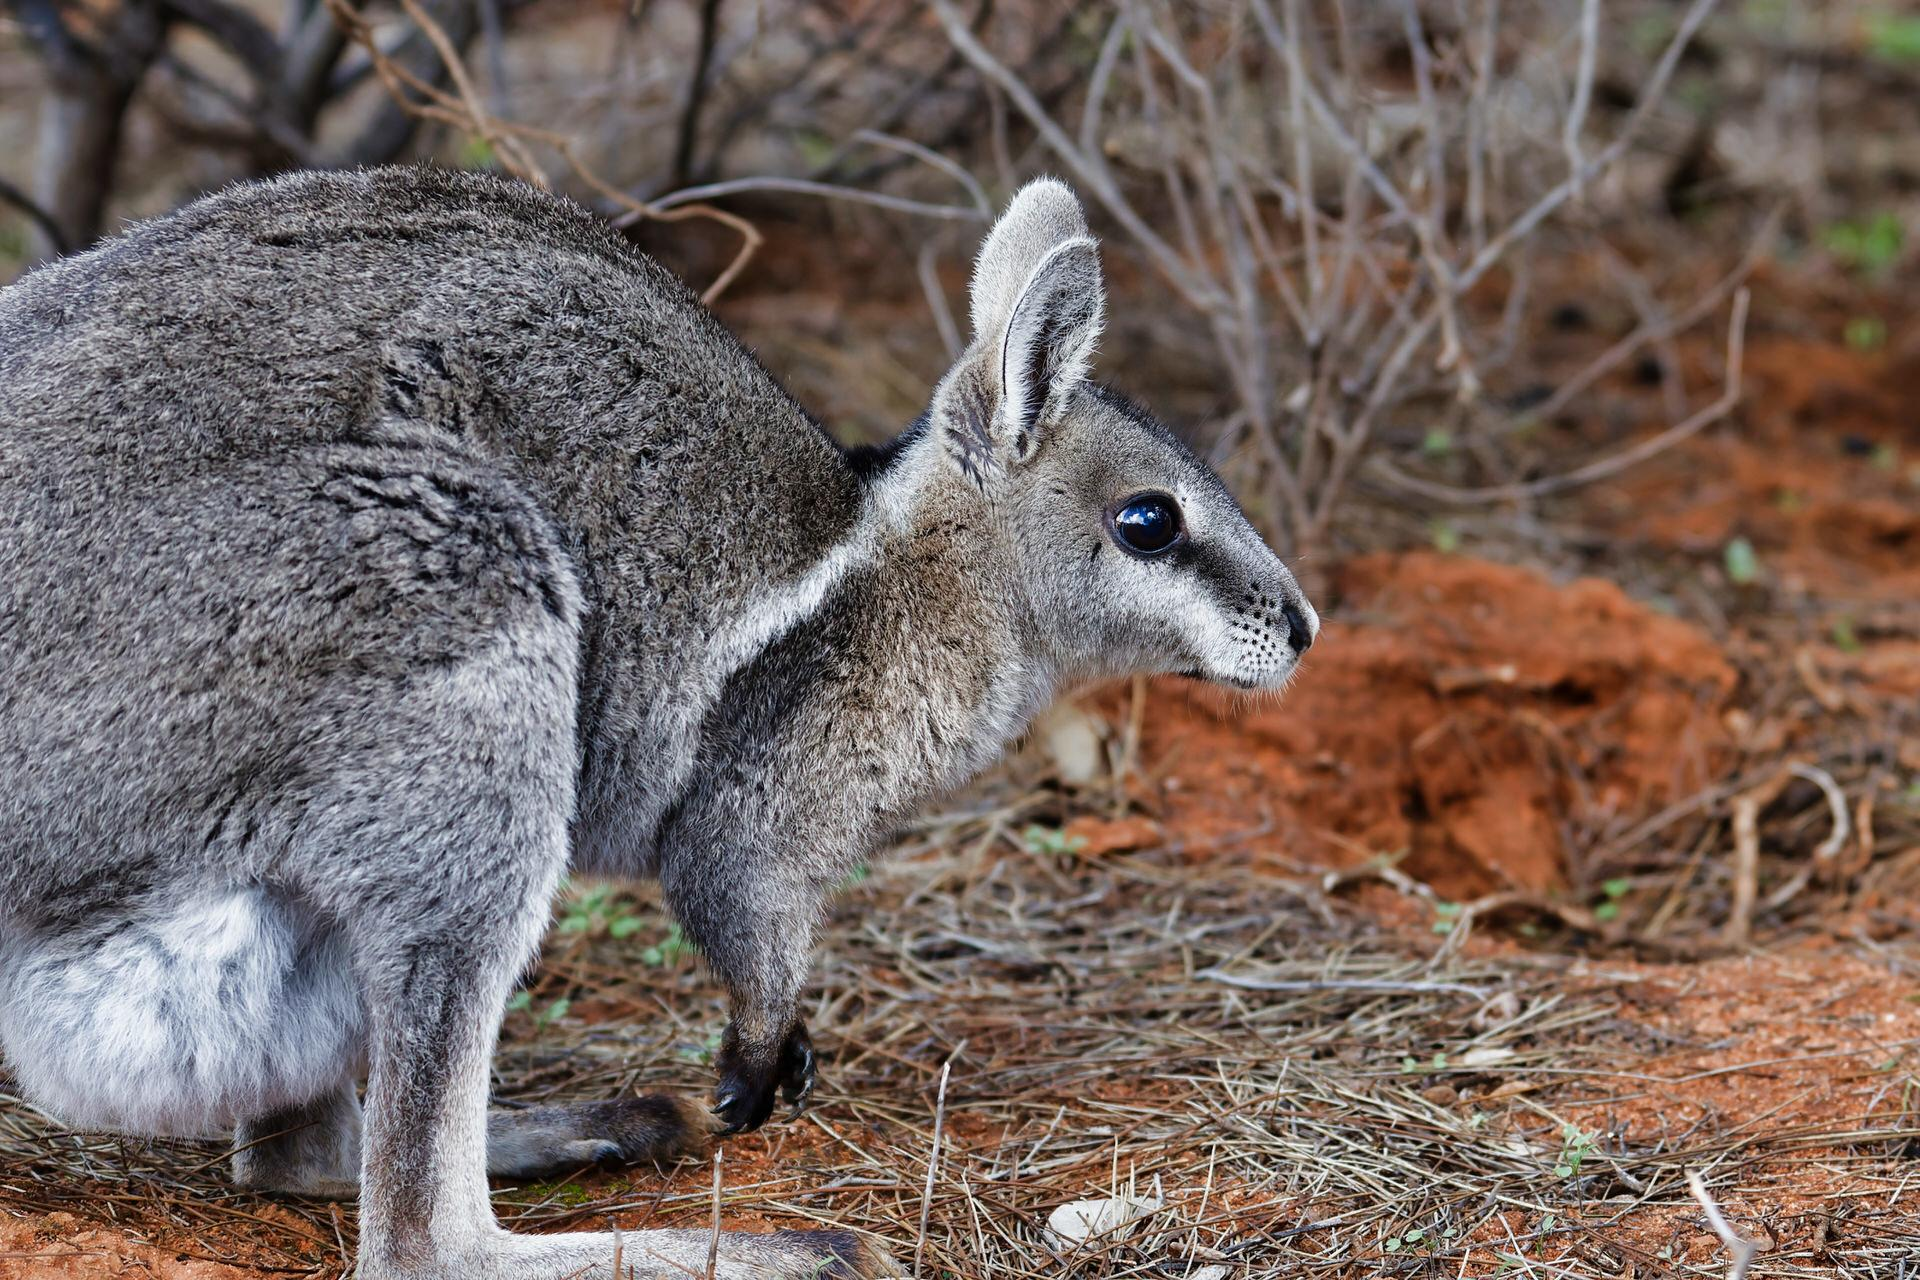Bridled-nail-tail wallaby: (0, 166, 1326, 1279)
